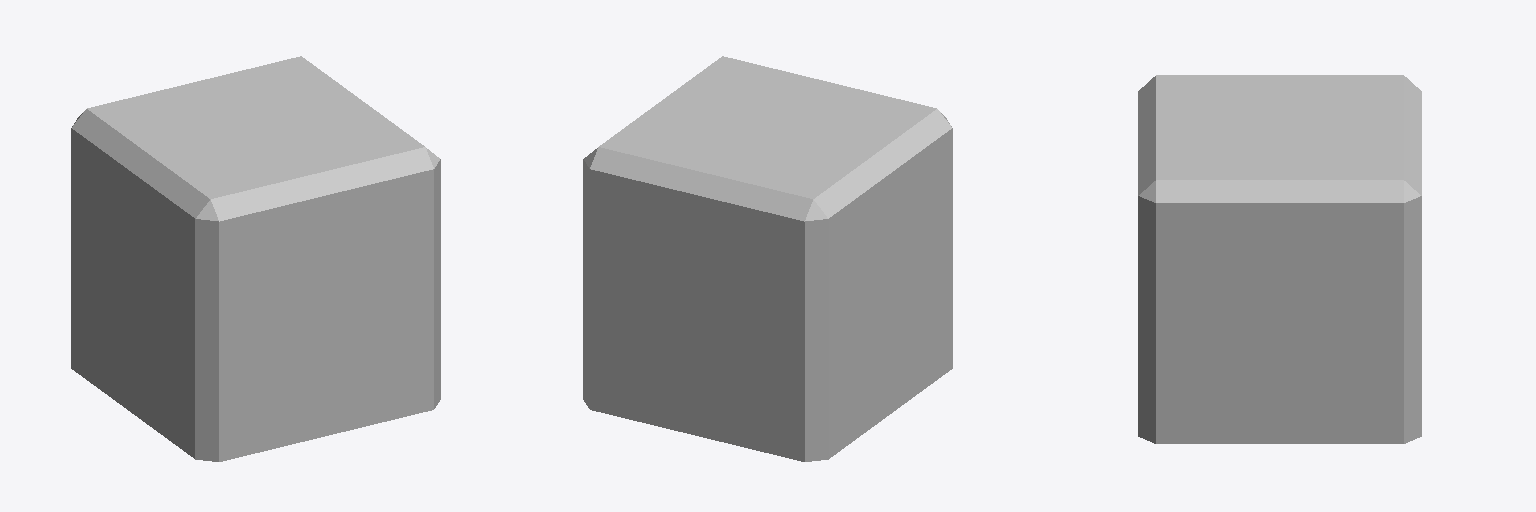
Rendered from blender-unit-ref.obj.
The picture shows the model from 3 angles: view 1: azimuth 30°, elevation 25°; view 2: azimuth 150°, elevation 25°; view 3: azimuth 270°, elevation 25°; orthographic projection.
Visible parts, largest first — view 1: Cube; view 2: Cube; view 3: Cube.
Boxes of the visible parts, <box> form: Cube: <box>71,56,440,461</box>; Cube: <box>583,56,952,461</box>; Cube: <box>1138,75,1421,443</box>.
Size of the model in its own units: 2 by 2 by 2.